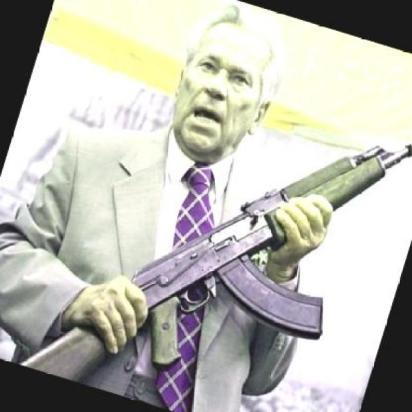Gun: (11, 18, 412, 412)
